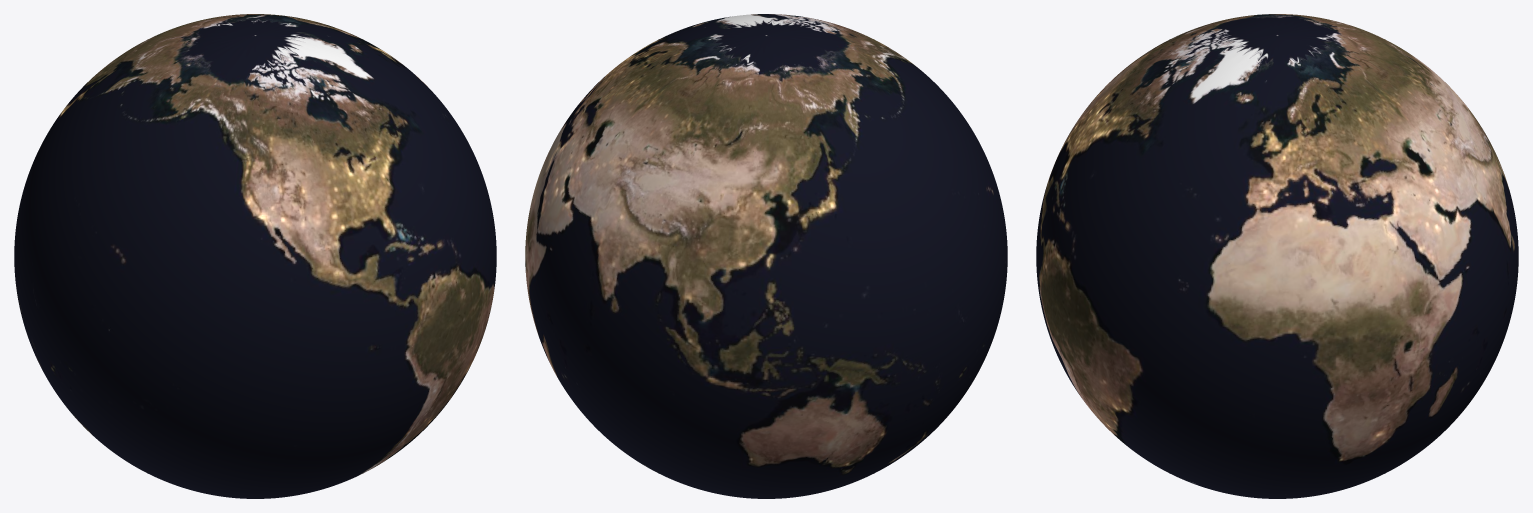
File: earth-min.glb
The picture shows the model from 3 angles, left to right: view 1: azimuth 30°, elevation 25°; view 2: azimuth 150°, elevation 25°; view 3: azimuth 270°, elevation 25°; orthographic projection.
Parts seen in each view (by area): view 1: Plane; view 2: Plane; view 3: Plane.
Boxes of the visible parts, x1,y1,x2,y2 form: Plane: (14,14,496,498); Plane: (525,14,1007,498); Plane: (1036,14,1518,498).
Bounding box in the file's own units: 1.97 × 2 × 1.97.
1 material, 1 textured.
